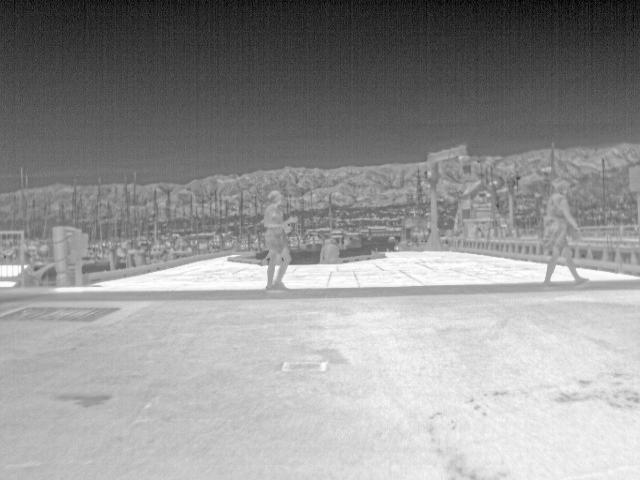person: (540, 175, 591, 286), (262, 188, 300, 290), (318, 234, 344, 262)
